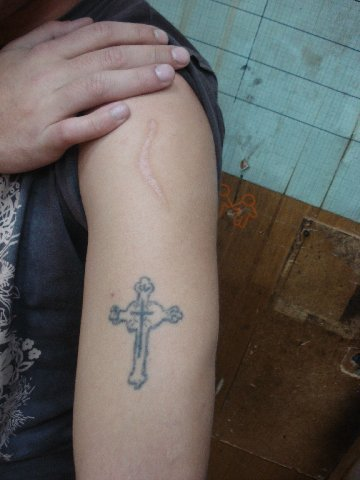tatu9_krest: (109, 269, 188, 387)
